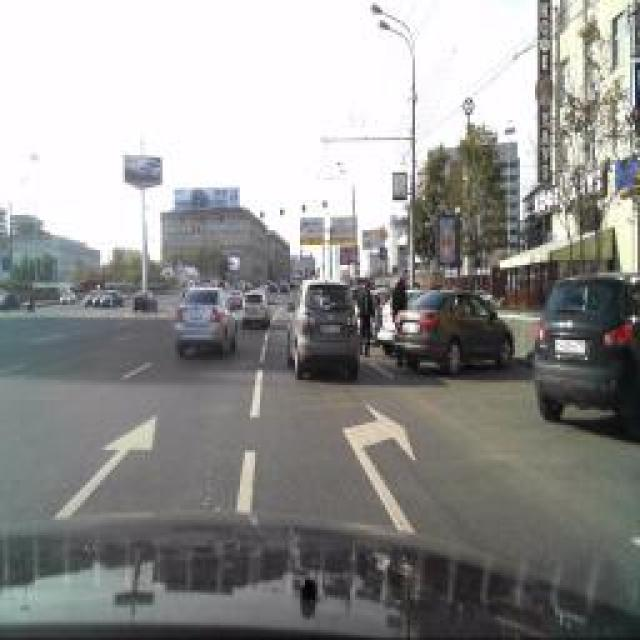sign: (376, 224, 389, 244)
